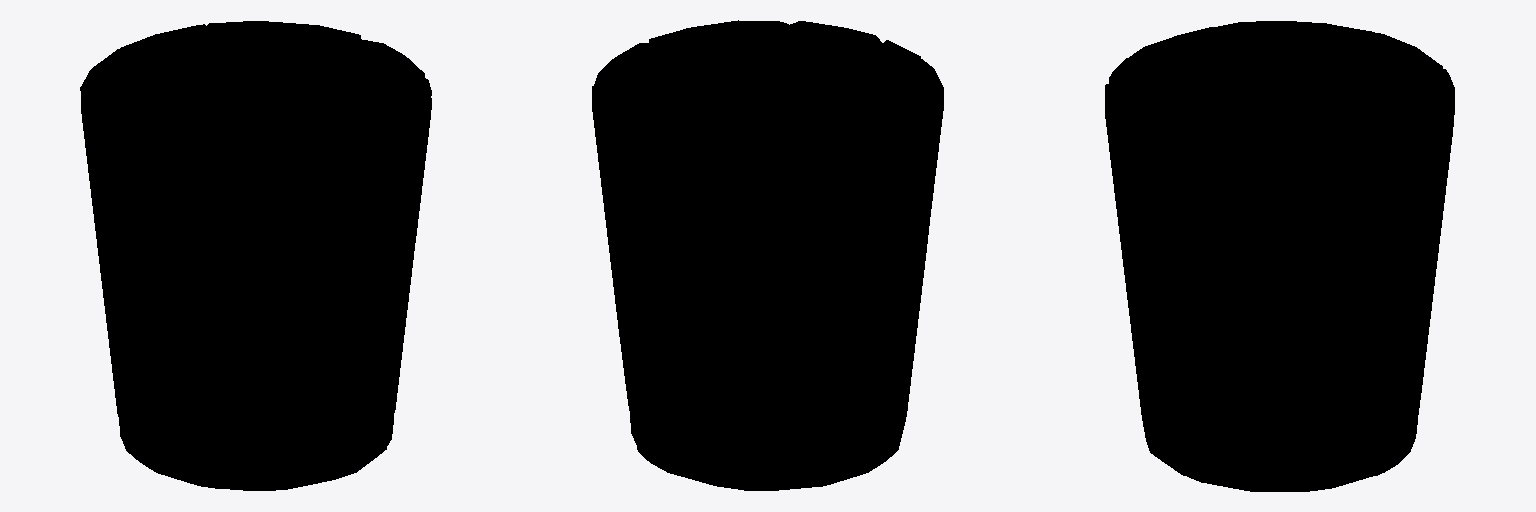
URDF robot description (trash):
<?xml version="0.0" ?>
<robot name="trash">
  

  <link name="trash">
    <contact>
      <!-- <rolling_friction value="0.03"/> -->
      <!-- <spinning_friction value="0.03"/> -->
      <!-- <lateral_friction value="1.5"/> -->
      <!-- <stiffness value="300"/> -->
      <!-- <damping value="50"/> -->
    </contact>

    <inertial>
      <origin rpy="0 0 0" xyz="0.04 0.0122 0.1387"/>
       <mass value="2.408"/>
       <!-- <inertia ixx="0.008852" ixy="0" ixz="0" iyy="0.008852" iyz="0" izz="0.01429"/> -->
       <inertia ixx="0.04342255" ixy="-0.00000065" ixz="0.00000003" iyy="0.04342169" iyz="0.00000003" izz="0.03512248"/>
    </inertial>

    <visual>
      <origin rpy="0 0 0" xyz="0.04 0.0122 0.1387"/>
      <geometry>
        <mesh filename="./obj/trash_vhacd.obj" scale="0.01 0.01 0.01"/>
      </geometry>
      <material name="black">
        <color rgba="0 0 0 1"/>
      </material>
    </visual>

    <collision>
      <origin rpy="0 0 0" xyz="0.04 0.0122 0.1387"/>
      <geometry>
         <mesh filename="./obj/trash_vhacd.obj" scale="0.01 0.01 0.01"/>
      </geometry>
    </collision>
  </link>
</robot>

--- Facts derived from the render (not from the file) ---
Views: 3 orthographic renders of the robot side by side, from view 1: azimuth 30°, elevation 25°; view 2: azimuth 150°, elevation 25°; view 3: azimuth 270°, elevation 25°.
Model trash with 1 links and 0 joints (none), rooted at trash, posed every joint at zero.
Visible links, largest first — view 1: trash; view 2: trash; view 3: trash.
Boxes of the visible links, left/top/right/bottom form: trash: left=80, top=21, right=431, bottom=490; trash: left=592, top=20, right=943, bottom=490; trash: left=1105, top=21, right=1454, bottom=491.
Bounding box of the posed robot: 0.3016 × 0.2999 × 0.3217 m (x, y, z).
Meshes: 1 distinct files referenced, 1 mesh visuals loaded (1 OBJ).
